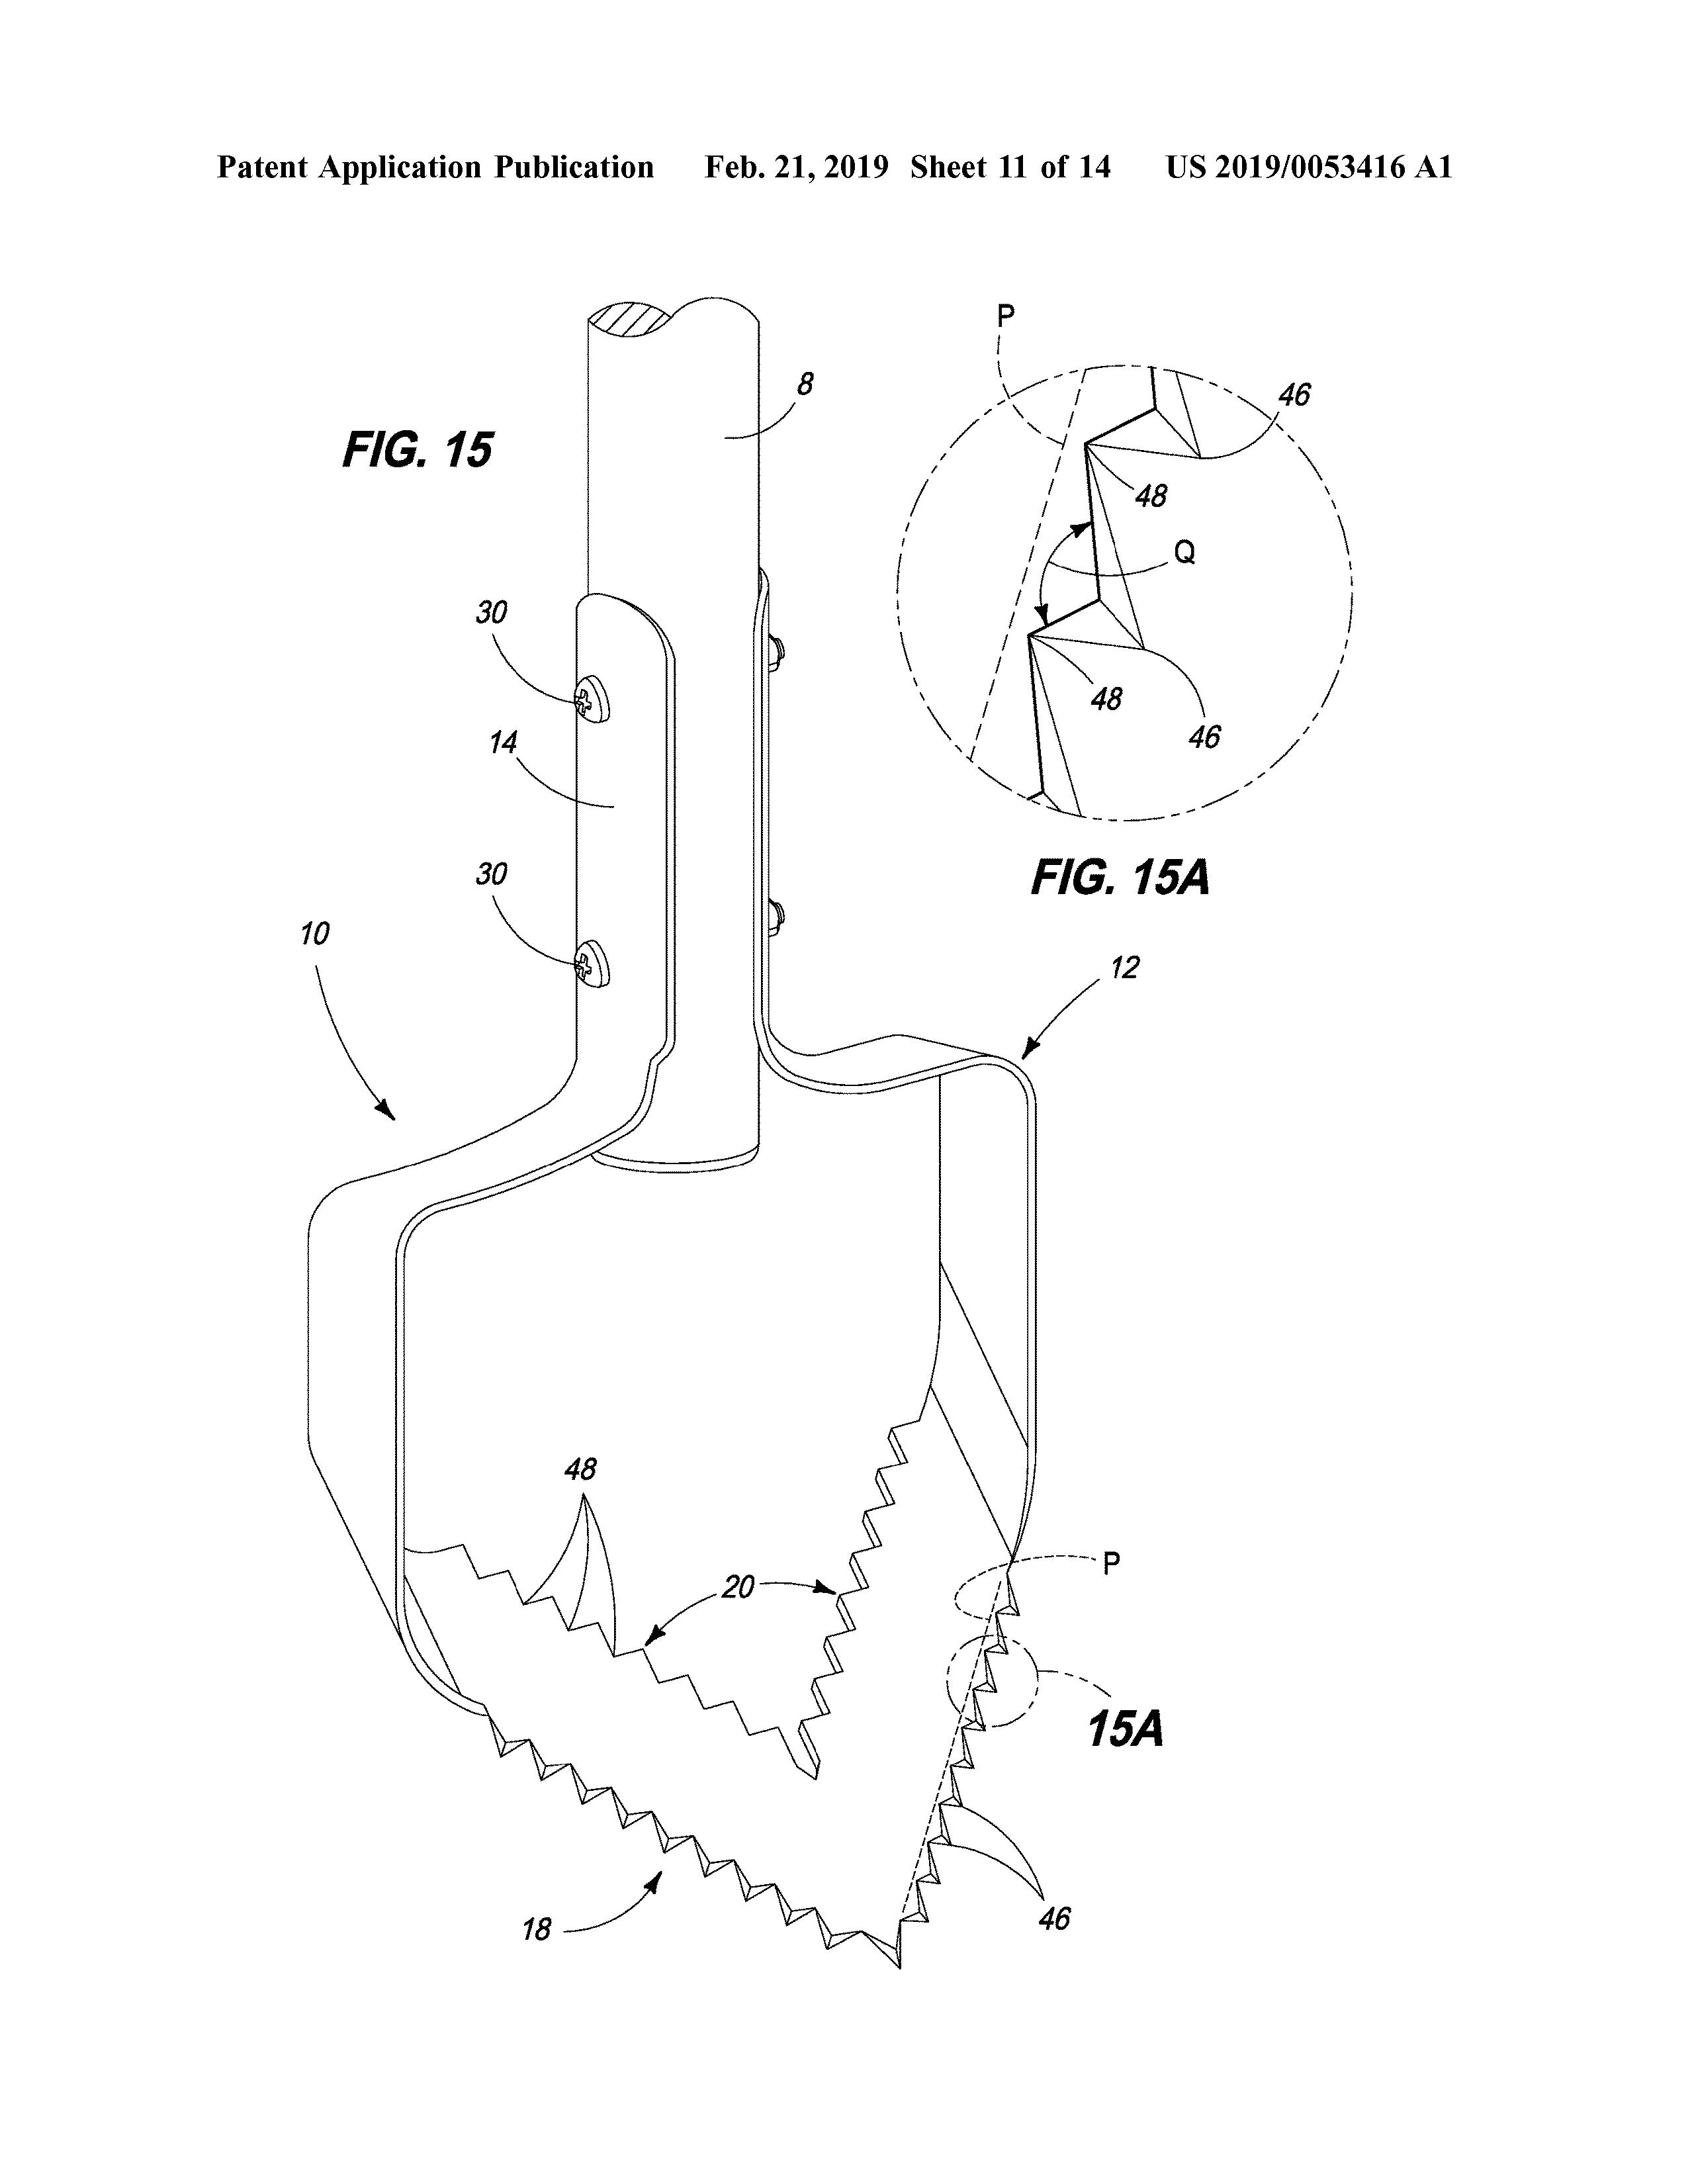10: (292, 906, 340, 959), (1084, 374, 1132, 427)
14: (489, 720, 523, 771)
15A: (1067, 1693, 1184, 1762)
18: (516, 1900, 565, 1952)
20: (716, 1562, 765, 1615)
30: (475, 849, 516, 899), (473, 585, 512, 635)
46: (1028, 1895, 1077, 1946), (1272, 369, 1320, 422), (1184, 714, 1232, 768)
48: (1083, 672, 1132, 723), (560, 1441, 608, 1494), (1129, 470, 1177, 523)
8: (783, 358, 831, 411)
FIG. 15: (317, 413, 521, 484)
FIG. 15A: (1019, 842, 1223, 911)
P: (1084, 1533, 1132, 1587), (983, 287, 1031, 340)
Q: (1161, 525, 1210, 578)
